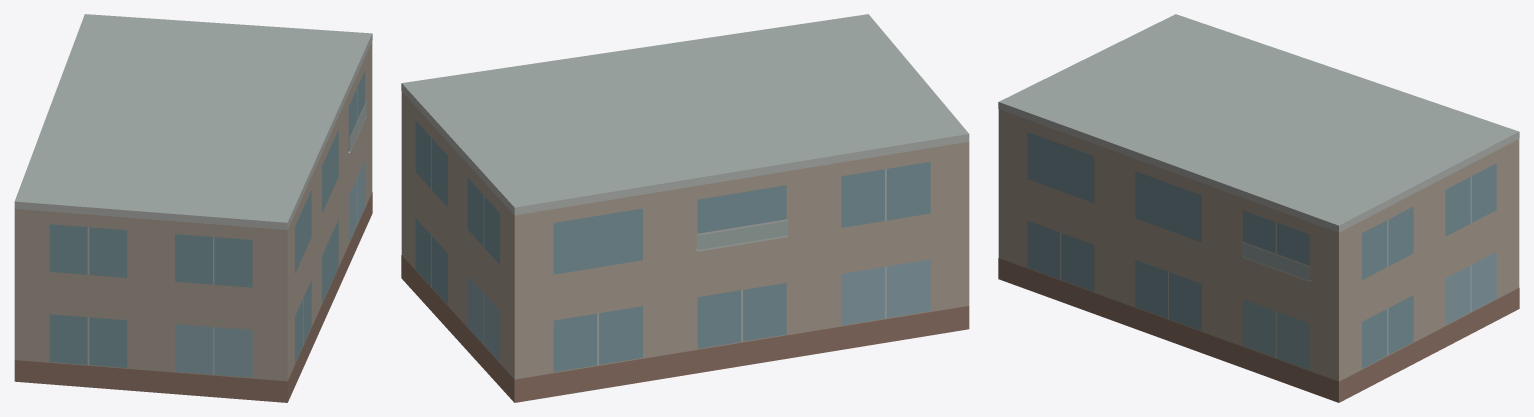
The model's file is survey-upis-32993482.glb.
3 views of the same model, side by side, from view 1: azimuth 30°, elevation 25°; view 2: azimuth 150°, elevation 25°; view 3: azimuth 270°, elevation 25° (orthographic). The views are drawn at different scales.
Parts seen in each view (by area): view 1: survey-upis-32993482.tmp; view 2: survey-upis-32993482.tmp; view 3: survey-upis-32993482.tmp.
Part boxes in pixels (x1=…): survey-upis-32993482.tmp: x1=14, y1=14, x2=372, y2=402; survey-upis-32993482.tmp: x1=401, y1=14, x2=969, y2=402; survey-upis-32993482.tmp: x1=998, y1=14, x2=1519, y2=402.
Size of the model in its own units: 15.64 by 6.1 by 16.26.
